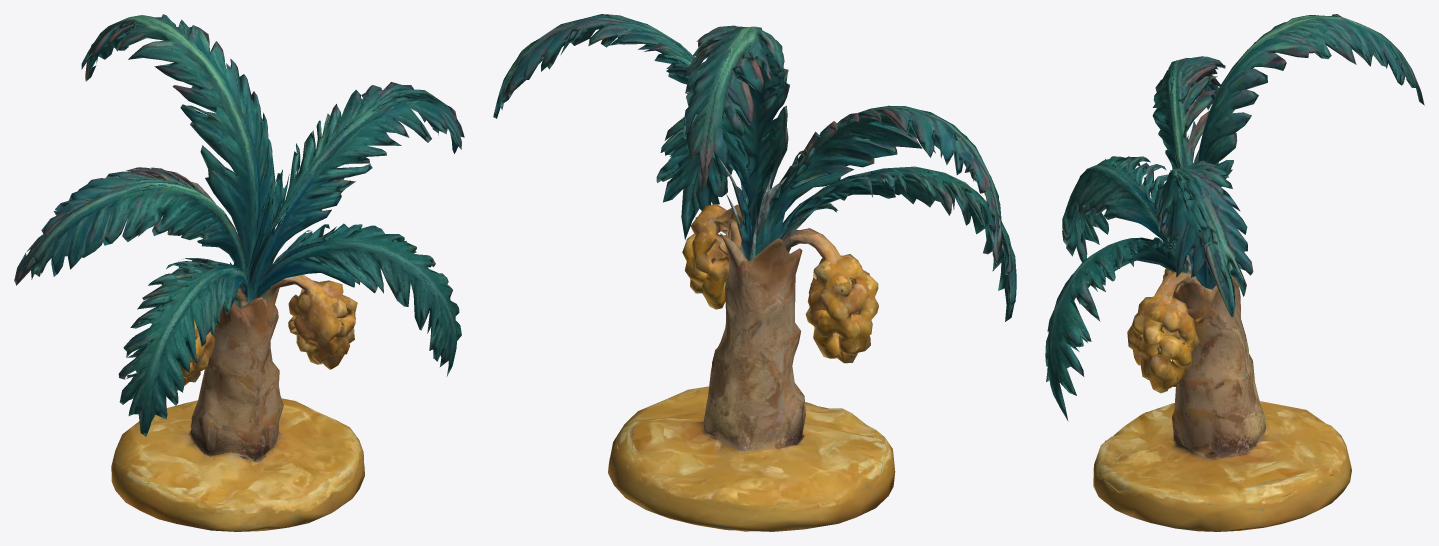
Rendered from palm.glb.
The picture shows the model from 3 angles, left to right: view 1: azimuth 30°, elevation 25°; view 2: azimuth 150°, elevation 25°; view 3: azimuth 270°, elevation 25°; orthographic projection. The views are drawn at different scales.
Visible parts, largest first — view 1: geometry_0; view 2: geometry_0; view 3: geometry_0.
Part boxes in pixels (left/top/right/bottom): geometry_0: left=14, top=14, right=464, bottom=531; geometry_0: left=493, top=14, right=1016, bottom=531; geometry_0: left=1045, top=14, right=1424, bottom=531.
Bounding box in the file's own units: 0.9259 × 0.8749 × 0.6656.
1 material, 1 textured.
